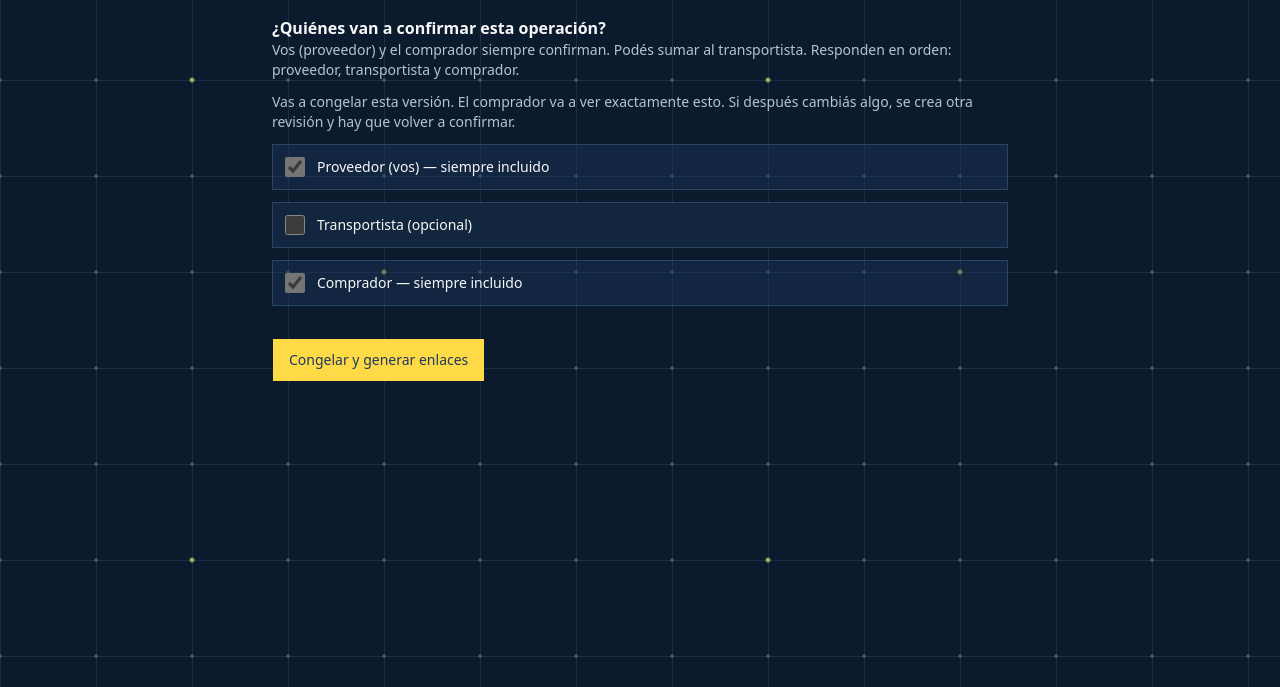
Scenario: ReviewContainer › un rechazo se informa como respuesta de negocio y no atribuye roles de forma ambigua
Click the button "Congelar y generar enlaces": x=379, y=360 [272, 338, 485, 382]
(page scrolled)
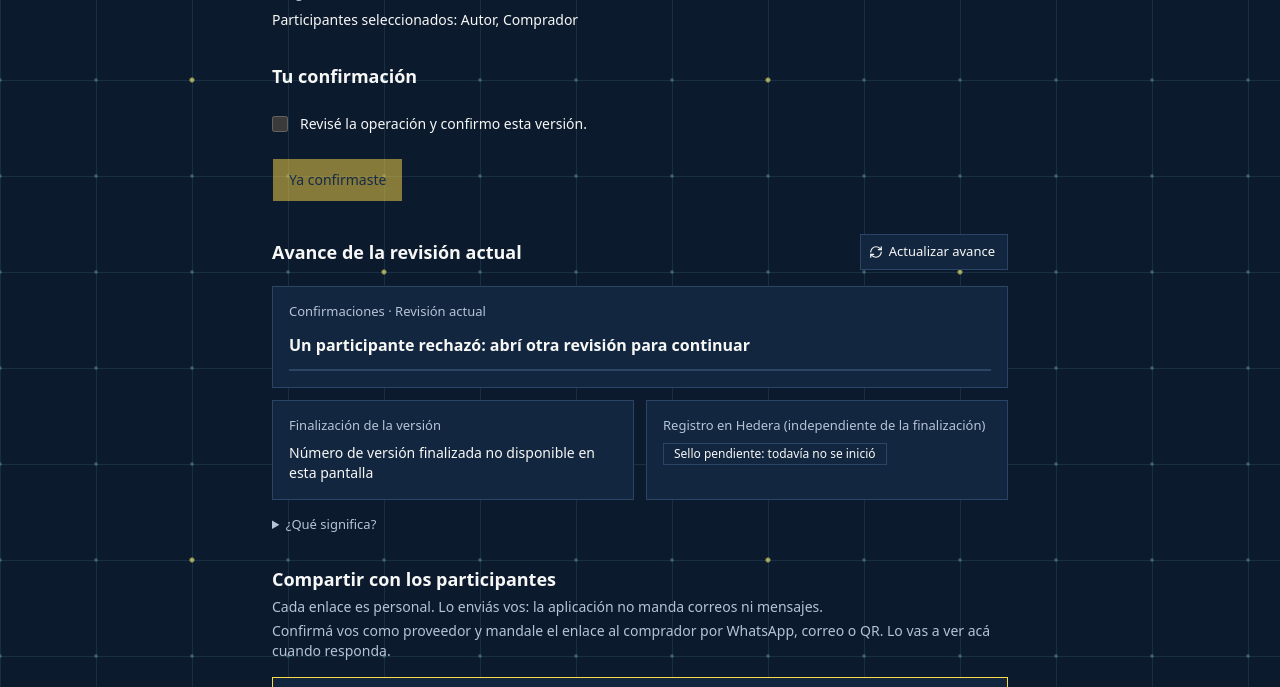
Result: the text "Un participante rechazó: abrí otra revisión para continuar" is shown at [289, 334, 750, 356]
